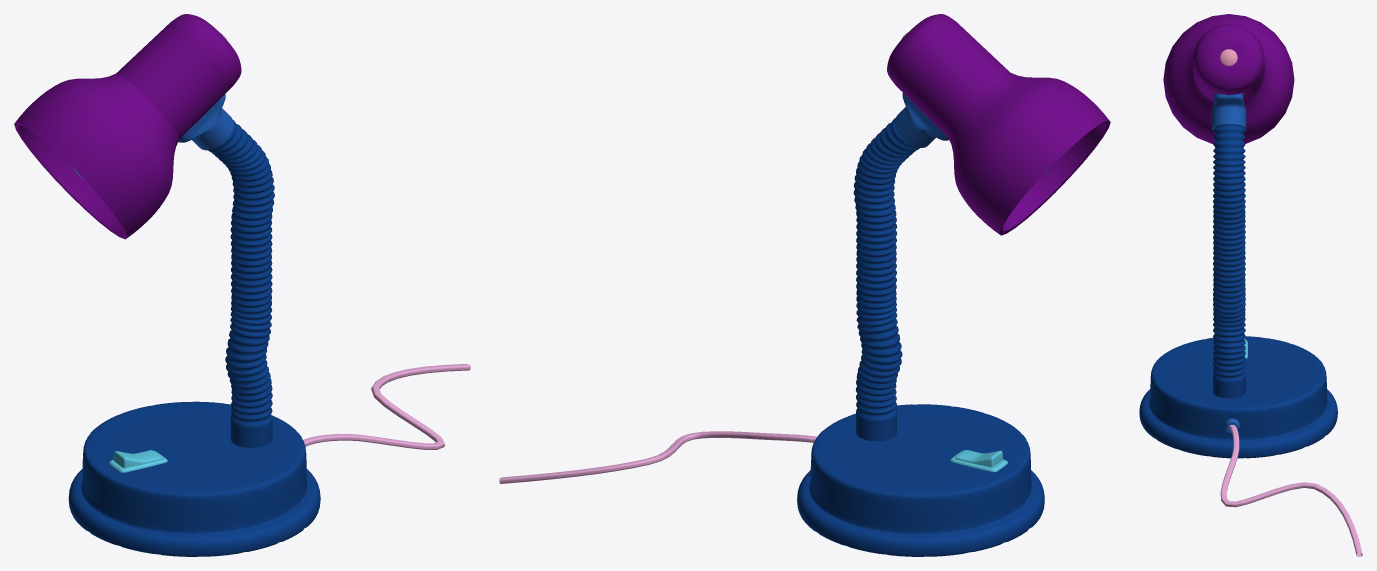
File: table lamp.obj
The picture shows the model from 3 angles, left to right: view 1: azimuth 30°, elevation 25°; view 2: azimuth 150°, elevation 25°; view 3: azimuth 270°, elevation 25°; orthographic projection. The views are drawn at different scales.
Parts seen in each view (by area): view 1: Table_lamp04, Table_lamp01, Table_lamp06, Table_lamp08, Table_lamp03, Table_lamp05; view 2: Table_lamp04, Table_lamp01, Table_lamp06, Table_lamp08, Table_lamp03, Table_lamp05; view 3: Table_lamp04, Table_lamp01, Table_lamp06, Table_lamp08, Table_lamp03.
Part boxes in pixels (x1,y1,x2,y2): Table_lamp04: [68, 401, 320, 556]; Table_lamp01: [14, 14, 241, 239]; Table_lamp06: [208, 120, 274, 447]; Table_lamp08: [303, 364, 470, 449]; Table_lamp03: [178, 94, 233, 150]; Table_lamp05: [109, 450, 167, 472]; Table_lamp04: [797, 404, 1044, 556]; Table_lamp01: [887, 14, 1110, 235]; Table_lamp06: [853, 118, 919, 441]; Table_lamp08: [499, 431, 817, 483]; Table_lamp03: [895, 93, 948, 147]; Table_lamp05: [950, 450, 1007, 472]; Table_lamp04: [1139, 336, 1337, 458]; Table_lamp01: [1163, 14, 1294, 143]; Table_lamp06: [1213, 124, 1245, 398]; Table_lamp08: [1220, 424, 1362, 556]; Table_lamp03: [1211, 93, 1246, 130].
Size of the model in its own units: 993 by 910 by 467.
